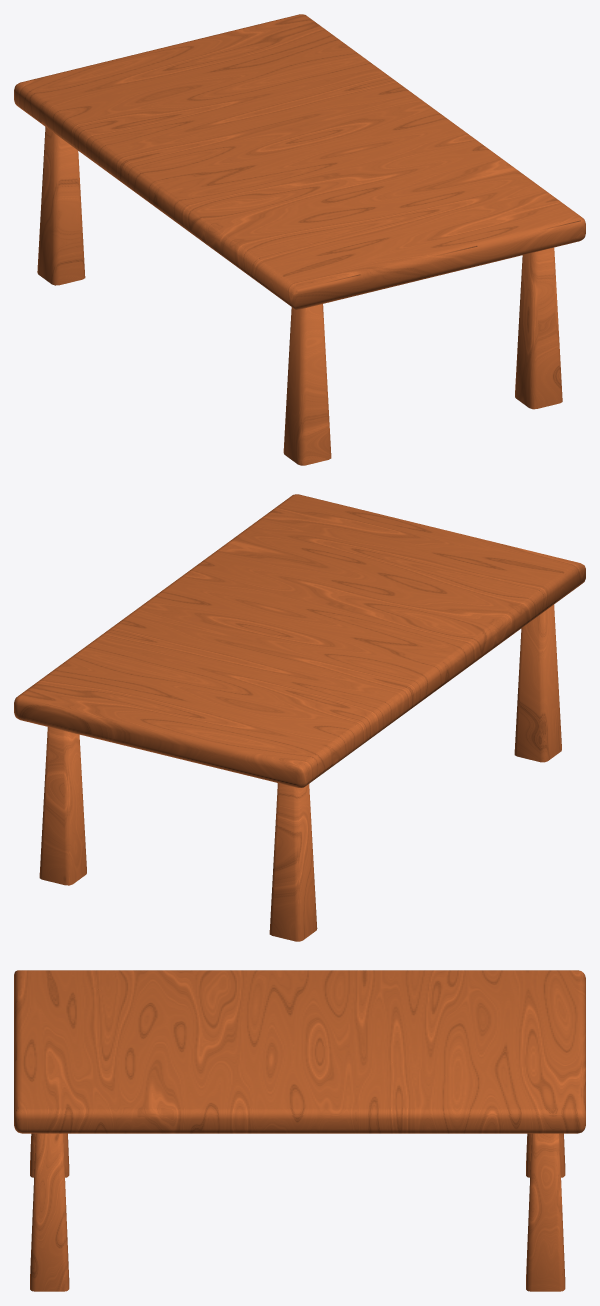
Rendered from table.glb.
3 renders of one model, top to bottom at view 1: azimuth 30°, elevation 25°; view 2: azimuth 150°, elevation 25°; view 3: azimuth 270°, elevation 25°, orthographic.
Visible parts, largest first — view 1: Cube; view 2: Cube; view 3: Cube.
Part boxes in pixels (x1,y1,x2,y2): Cube: [14, 14, 585, 465]; Cube: [14, 494, 585, 941]; Cube: [14, 970, 585, 1291].
Size of the model in its own units: 5.76 by 3.49 by 9.64.
Materials: 1 (1 with a texture image).
